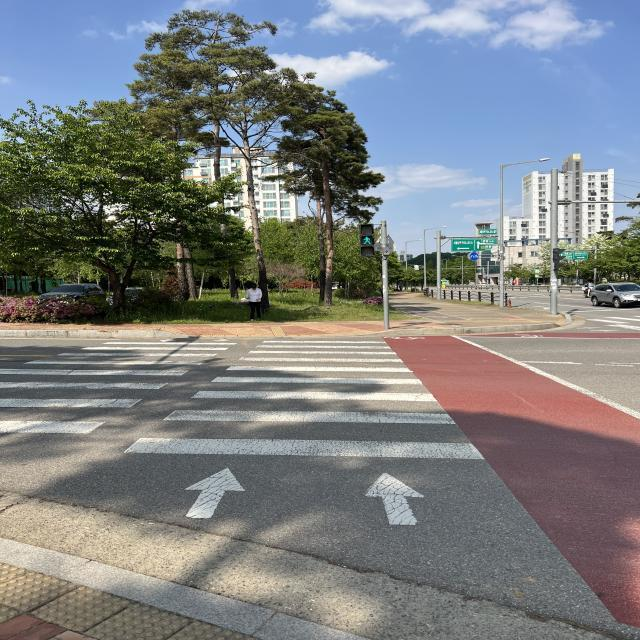crosswalk: (1, 316, 500, 536)
geen-crossing: (360, 226, 380, 258)
